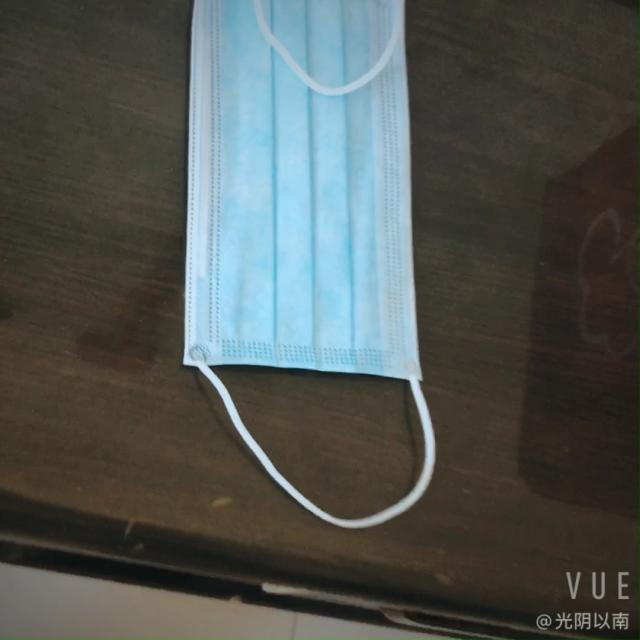face mask: (167, 11, 431, 382)
